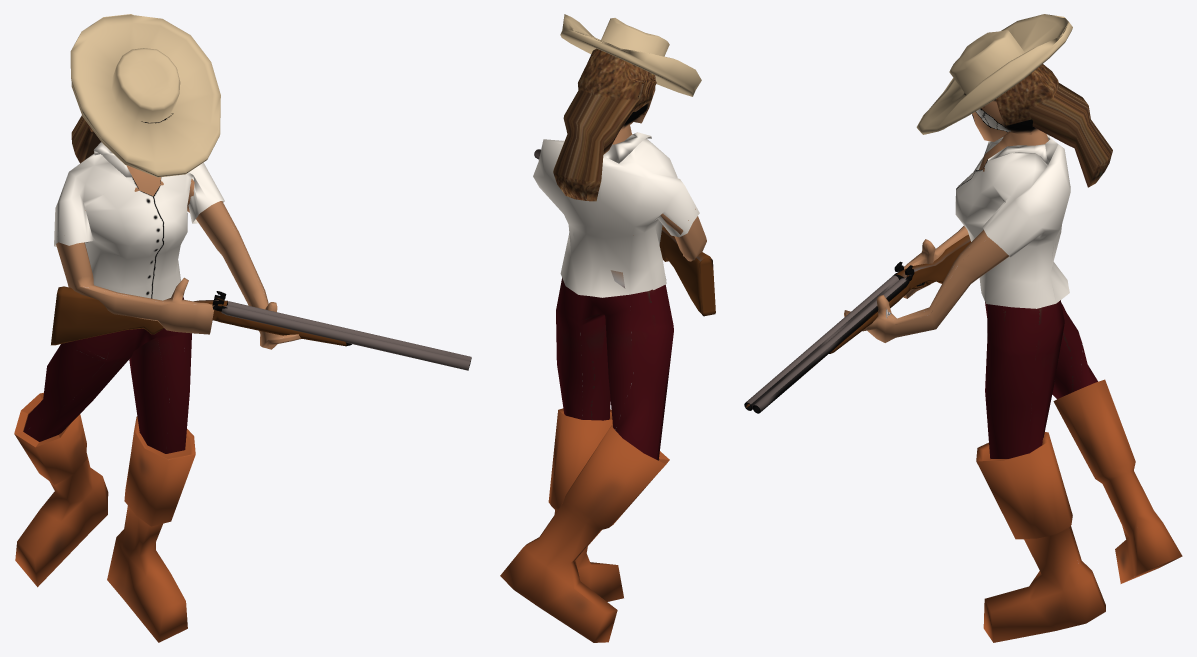
Rendered from Maria.obj.
3 views of the same model, side by side, from view 1: azimuth 30°, elevation 25°; view 2: azimuth 150°, elevation 25°; view 3: azimuth 270°, elevation 25° (orthographic).
Visible parts, largest first — view 1: Default_Body_Cube, boots_Cube.005, Hat_Cylinder, shirt_Cube.001, SHOTGUN_Cube.007, Hair_Cube.004; view 2: boots_Cube.005, Default_Body_Cube, shirt_Cube.001, Hair_Cube.004, Hat_Cylinder, SHOTGUN_Cube.007; view 3: boots_Cube.005, Default_Body_Cube, shirt_Cube.001, Hat_Cylinder, Hair_Cube.004, SHOTGUN_Cube.007.
Part boxes in pixels (x1=…): Default_Body_Cube: x1=23, y1=165, x2=301, y2=453; boots_Cube.005: x1=14, y1=392, x2=195, y2=642; Hat_Cylinder: x1=70, y1=14, x2=220, y2=177; shirt_Cube.001: x1=54, y1=142, x2=224, y2=300; SHOTGUN_Cube.007: x1=51, y1=286, x2=471, y2=370; Hair_Cube.004: x1=71, y1=115, x2=101, y2=163; boots_Cube.005: x1=500, y1=408, x2=669, y2=642; Default_Body_Cube: x1=556, y1=75, x2=706, y2=460; shirt_Cube.001: x1=533, y1=132, x2=699, y2=297; Hair_Cube.004: x1=553, y1=48, x2=656, y2=201; Hat_Cylinder: x1=560, y1=14, x2=701, y2=96; SHOTGUN_Cube.007: x1=534, y1=149, x2=715, y2=316; boots_Cube.005: x1=976, y1=379, x2=1182, y2=642; Default_Body_Cube: x1=844, y1=99, x2=1097, y2=458; shirt_Cube.001: x1=955, y1=134, x2=1070, y2=308; Hat_Cylinder: x1=916, y1=14, x2=1072, y2=134; Hair_Cube.004: x1=996, y1=64, x2=1112, y2=187; SHOTGUN_Cube.007: x1=744, y1=234, x2=970, y2=413.
Bounding box in the file's own units: 4.74 × 8.98 × 5.94.
